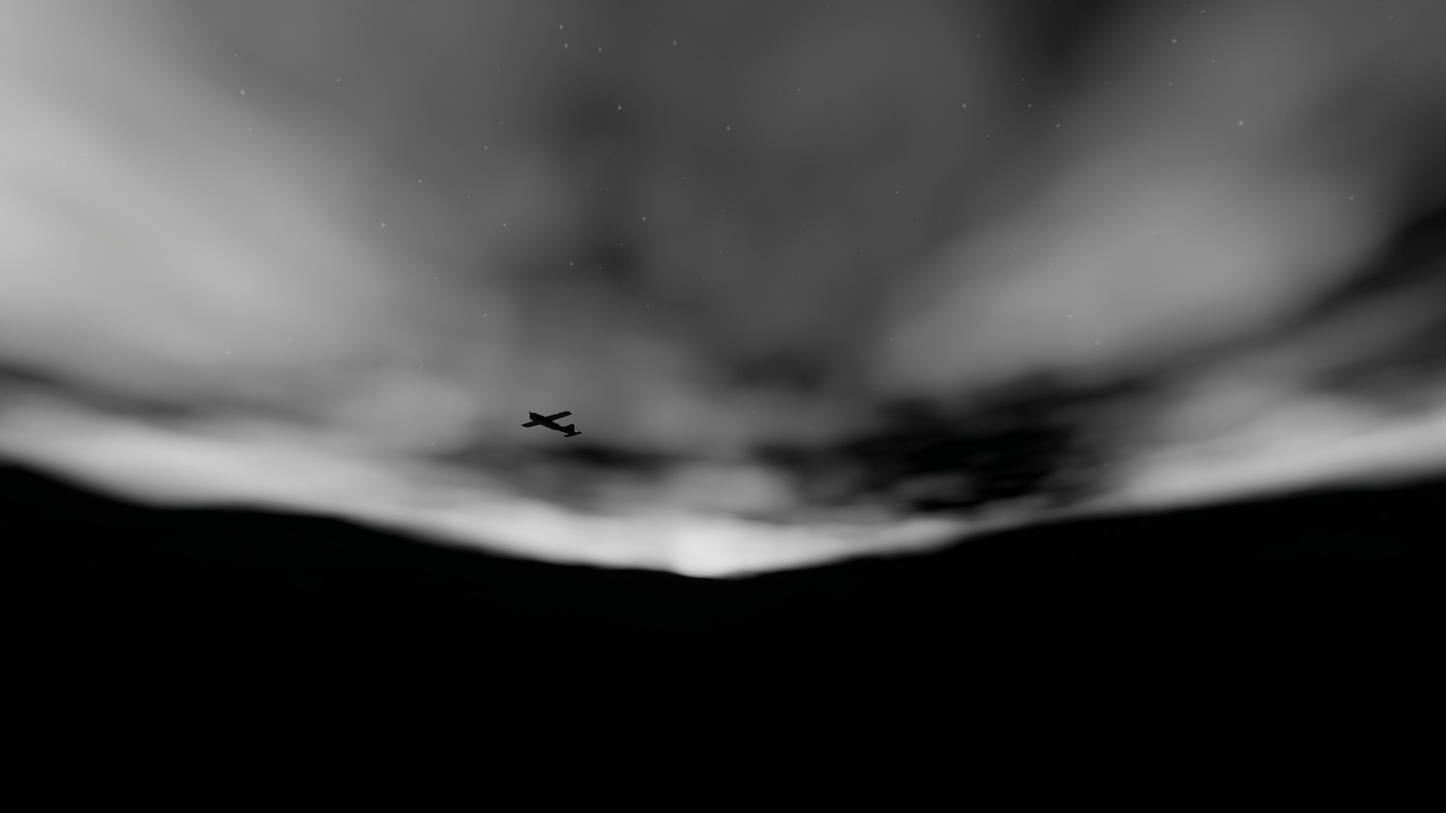drone_other: (521, 411, 581, 437)
